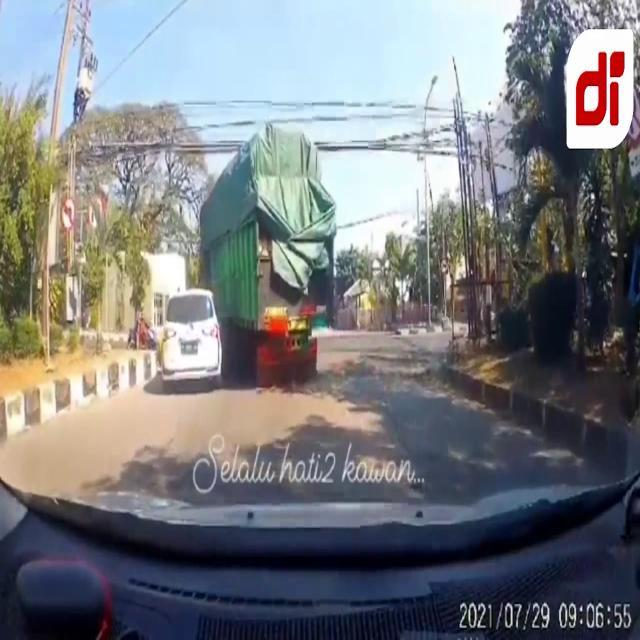multiple_accident: (80, 85, 358, 407)
